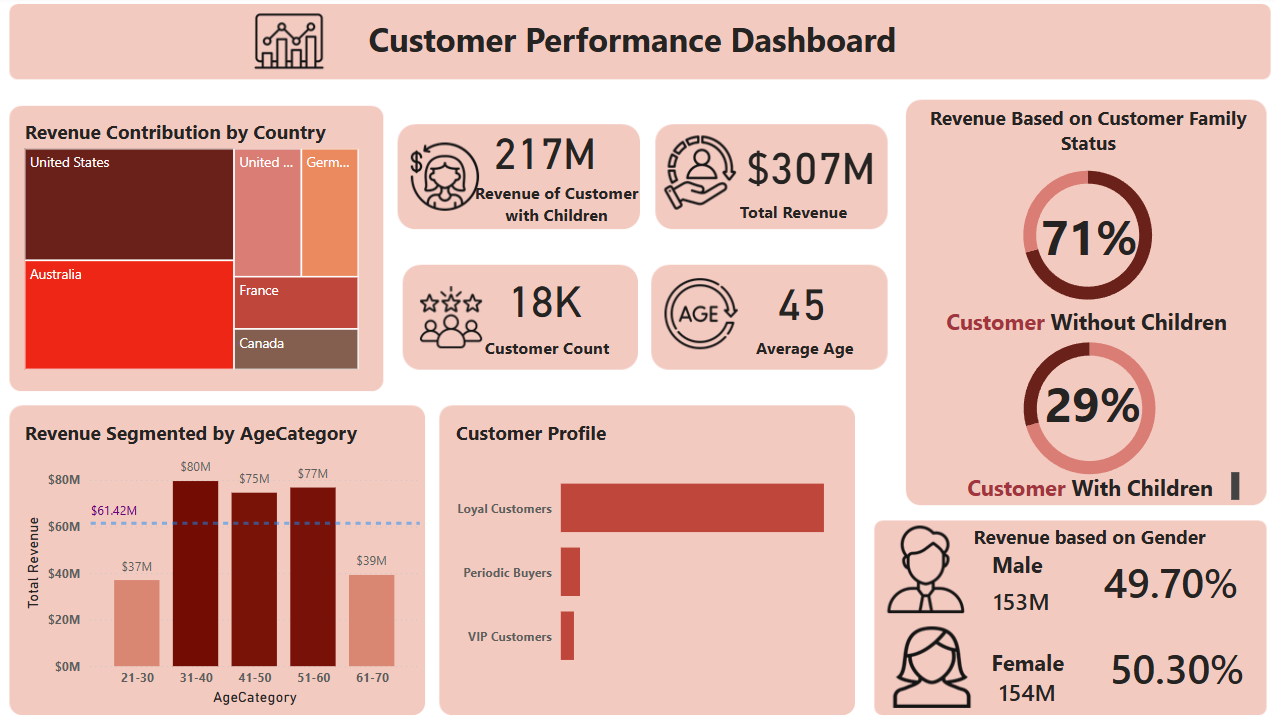

The page's visual inventory and layout, read from the dashboard file:
{"tool":"powerbi","page":{"name":"Page 1","canvas":[1280,720],"ordinal":0},"visuals":[{"type":"card","fields":{"Values":["All customer.Total Revenue"]},"box":[735,122.7,149.7,83.4],"z":0},{"type":"clusteredColumnChart","title":"Revenue Segmented by AgeCategory","fields":{"Category":["DimCustomer.AgeCategory"],"Y":["All customer.Total Revenue"]},"box":[33.1,416,397.5,285.9],"z":1000},{"type":"card","fields":{"Values":["All customer.Customer WC Revenue"]},"box":[481,120.2,135,61.4],"z":2000},{"type":"card","fields":{"Values":["All customer.Customer Count"]},"box":[441.7,265,213.5,62.6],"z":3000},{"type":"donutChart","fields":{"Y":["All customer.CWC %","All customer.RwithoutC%"]},"box":[922.7,319,321.5,171.8],"z":4000},{"type":"card","fields":{"Values":["All customer.RwithoutC%"]},"box":[1033.1,347.2,106.7,103.1],"z":5000},{"type":"donutChart","fields":{"Y":["All customer.CWC %","All customer.RwithoutC%"]},"box":[883.4,150.9,396.3,168.1],"z":6000},{"type":"textbox","box":[939.9,462.6,295.7,38],"z":7000},{"type":"card","fields":{"Values":["All customer.CWC %"]},"box":[1002.5,206.1,160.7,58.9],"z":8000},{"type":"textbox","box":[925.2,299.4,310.4,39.3],"z":9000},{"type":"textbox","box":[370.6,16,539.9,58.9],"z":10000},{"type":"clusteredBarChart","title":"Customer Profile","fields":{"Category":["DimCustomer.Customer type"],"Y":["All customer.Total Revenue"]},"box":[456.4,416,396.3,268.7],"z":11000},{"type":"card","fields":{"Values":["All customer.Average Customer Age"]},"box":[749.7,265,103.1,67.5],"z":12000},{"type":"card","fields":{"Values":["All customer.% Female"]},"box":[1088.3,634.4,162,50.3],"z":13000},{"type":"card","fields":{"Values":["All customer.% Male"]},"box":[1090.8,549.7,144.8,51.5],"z":14000},{"type":"treemap","title":"Revenue Contribution by Country","fields":{"Group":["DimGeography.Country"],"Values":["All customer.Total Revenue"]},"box":[33.1,120.2,337.4,251.5],"z":15000},{"type":"textbox","box":[735,195.1,149.7,40.5],"z":16000},{"type":"textbox","box":[484.7,328.8,149.7,35.6],"z":17000},{"type":"textbox","box":[722.7,328.8,162,40.5],"z":18000},{"type":"textbox","box":[441.7,176.7,236.8,58.9],"z":19000},{"type":"textbox","box":[964.4,512.9,279.8,41.7],"z":20000},{"type":"textbox","box":[952,634.7,140.7,39.8],"z":21000},{"type":"textbox","box":[962,538.7,100.6,40.5],"z":22000},{"type":"card","fields":{"Values":["All customer.Male Revenue"]},"box":[952,574.9,128.8,39.8],"z":23000},{"type":"card","fields":{"Values":["All customer.Female Revenue"]},"box":[952,665.2,140.7,39.8],"z":24000},{"type":"textbox","box":[902.1,101.3,360.2,62.7],"z":25000}]}

Visuals, with their boxes in screenshot pixels (x1, y1, x2, y2), scaled from the page's 1280x720 canvas onto the 1276x722 screenshot:
card - All customer.Total Revenue: bbox=[733, 123, 882, 207]
"Revenue Segmented by AgeCategory" clusteredColumnChart: bbox=[33, 417, 429, 704]
card - All customer.Customer WC Revenue: bbox=[479, 121, 614, 182]
card - All customer.Customer Count: bbox=[440, 266, 653, 329]
donutChart - All customer.CWC % x All customer.RwithoutC%: bbox=[920, 320, 1240, 492]
card - All customer.RwithoutC%: bbox=[1030, 348, 1136, 452]
donutChart - All customer.CWC % x All customer.RwithoutC%: bbox=[881, 151, 1275, 320]
textbox: bbox=[937, 464, 1232, 502]
card - All customer.CWC %: bbox=[999, 207, 1160, 266]
textbox: bbox=[922, 300, 1232, 340]
textbox: bbox=[369, 16, 908, 75]
"Customer Profile" clusteredBarChart: bbox=[455, 417, 850, 687]
card - All customer.Average Customer Age: bbox=[747, 266, 850, 333]
card - All customer.% Female: bbox=[1085, 636, 1246, 687]
card - All customer.% Male: bbox=[1087, 551, 1232, 603]
"Revenue Contribution by Country" treemap: bbox=[33, 121, 369, 373]
textbox: bbox=[733, 196, 882, 236]
textbox: bbox=[483, 330, 632, 365]
textbox: bbox=[720, 330, 882, 370]
textbox: bbox=[440, 177, 676, 236]
textbox: bbox=[961, 514, 1240, 556]
textbox: bbox=[949, 636, 1089, 676]
textbox: bbox=[959, 540, 1059, 581]
card - All customer.Male Revenue: bbox=[949, 576, 1077, 616]
card - All customer.Female Revenue: bbox=[949, 667, 1089, 707]
textbox: bbox=[899, 102, 1258, 164]
